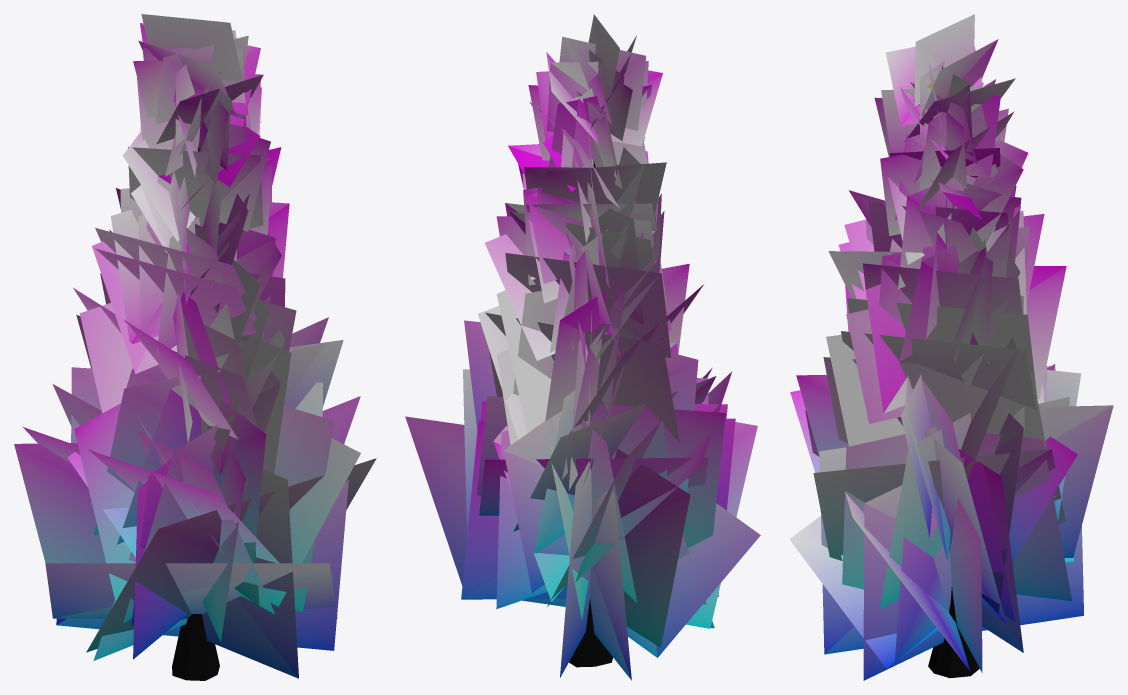
Rendered from thuja_01_small_low.dae.
The picture shows the model from 3 angles, left to right: view 1: azimuth 30°, elevation 25°; view 2: azimuth 150°, elevation 25°; view 3: azimuth 270°, elevation 25°; orthographic projection. The views are drawn at different scales.
Visible parts, largest first — view 1: thuja80; view 2: thuja80; view 3: thuja80.
Part boxes in pixels (left/top/right/bottom): thuja80: left=14, top=14, right=376, bottom=680; thuja80: left=405, top=14, right=760, bottom=680; thuja80: left=789, top=14, right=1113, bottom=680.
Size of what is drawn, in the model's own units: 2.92 by 2.47 by 5.32.
